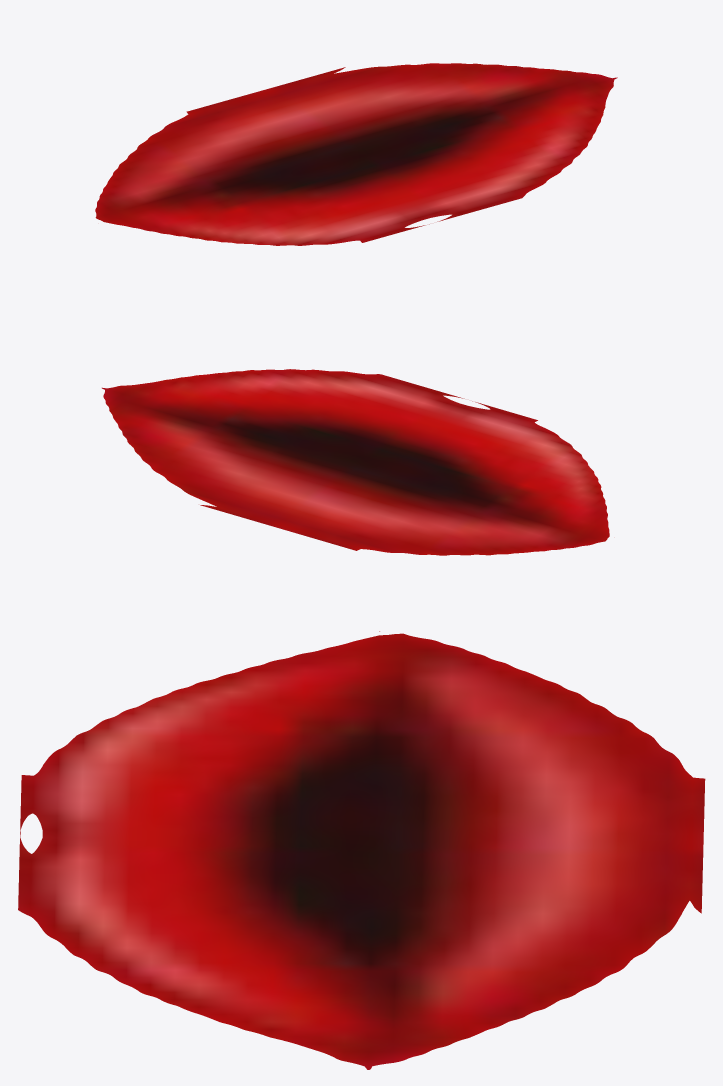
Rendered from lips.glb.
3 views of the same model, one above another, from view 1: azimuth 30°, elevation 25°; view 2: azimuth 150°, elevation 25°; view 3: azimuth 270°, elevation 25° (orthographic). The views are drawn at different scales.
Parts seen in each view (by area): view 1: lips; view 2: lips; view 3: lips.
Part boxes in pixels (x1,y1,x2,y2): lips: (95,63,617,245); lips: (102,369,609,555); lips: (18,631,705,1069).
Bounding box in the file's own units: 0.5025 × 0.0207 × 0.3049.
Materials: 1 (1 with a texture image).
